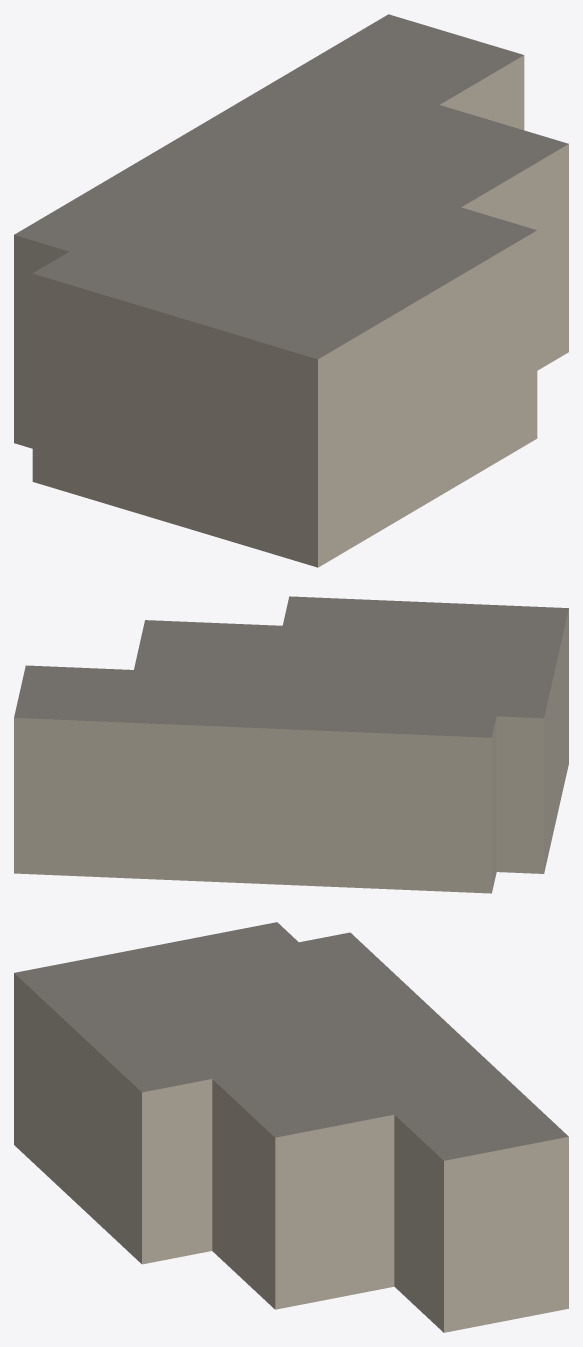
The picture shows the model from 3 angles, top to bottom: view 1: azimuth 30°, elevation 25°; view 2: azimuth 150°, elevation 25°; view 3: azimuth 270°, elevation 25°; orthographic projection. The views are drawn at different scales.
Visible parts, largest first — view 1: HP-w435452362; view 2: HP-w435452362; view 3: HP-w435452362.
Part boxes in pixels (<box>): HP-w435452362: <box>14,14,568,567</box>; HP-w435452362: <box>14,596,568,893</box>; HP-w435452362: <box>14,922,568,1332</box>.
Size of the model in its own units: 53.59 by 18 by 52.63.
